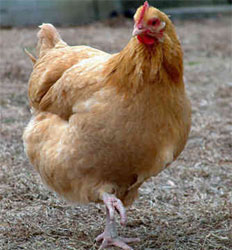chicken: (22, 1, 197, 250)
